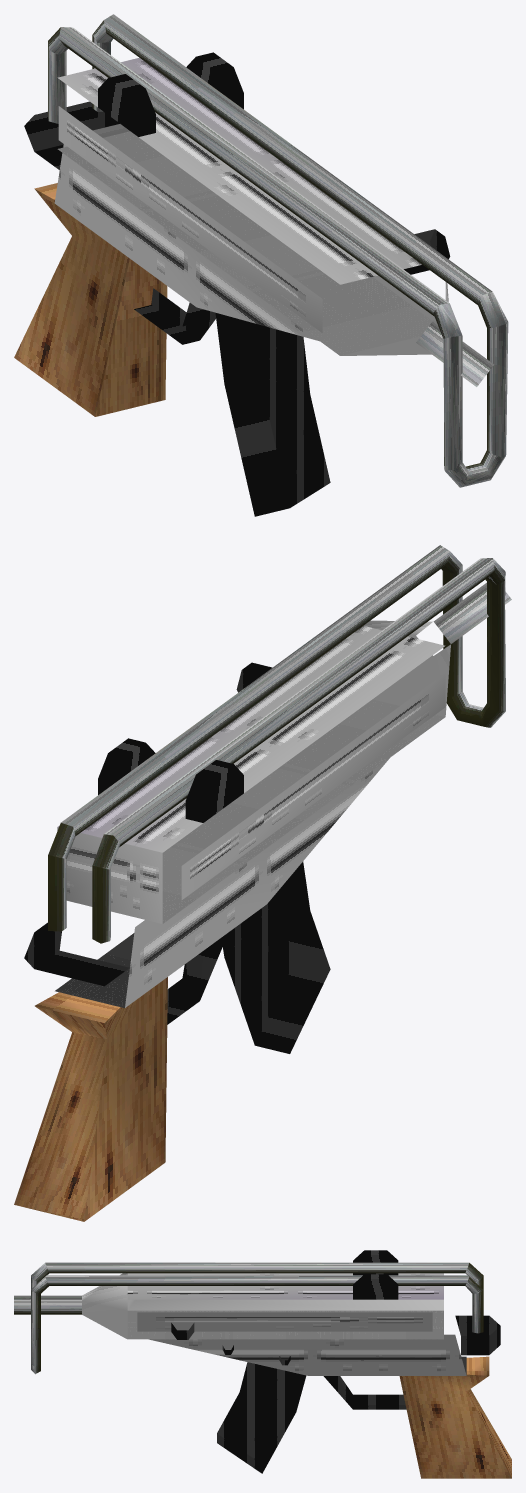
Rendered from gun.glb.
3 views of the same model, one above another, from view 1: azimuth 30°, elevation 25°; view 2: azimuth 150°, elevation 25°; view 3: azimuth 270°, elevation 25° (orthographic). The views are drawn at different scales.
Visible parts, largest first — view 1: m5, m7, m6, m9, m8, m10, m4, m11; view 2: m5, m7, m9, m6, m10, m8, m4, m11; view 3: m7, m5, m9, m6, m8, m10, m4, m11.
Part boxes in pixels (box(x1,y1,x2,y2)): m5: box(48, 14, 508, 487); m7: box(54, 57, 421, 341); m6: box(24, 101, 450, 516); m9: box(14, 183, 167, 416); m8: box(57, 124, 448, 355); m10: box(58, 106, 322, 332); m4: box(98, 52, 243, 136); m11: box(341, 336, 431, 355); m5: box(48, 545, 511, 943); m7: box(57, 625, 445, 1007); m9: box(14, 977, 167, 1221); m6: box(24, 662, 330, 1053); m10: box(57, 673, 445, 923); m8: box(55, 620, 450, 1008); m4: box(98, 738, 243, 822); m11: box(373, 656, 445, 716); m7: box(127, 1273, 466, 1375); m5: box(14, 1262, 483, 1374); m9: box(399, 1356, 511, 1478); m6: box(171, 1315, 500, 1473); m8: box(82, 1273, 466, 1374); m10: box(137, 1312, 432, 1331); m4: box(353, 1250, 398, 1299); m11: box(82, 1310, 127, 1339).
Bounding box in the file's own units: 72 × 159 × 351.
Materials: 8 (8 with a texture image).
